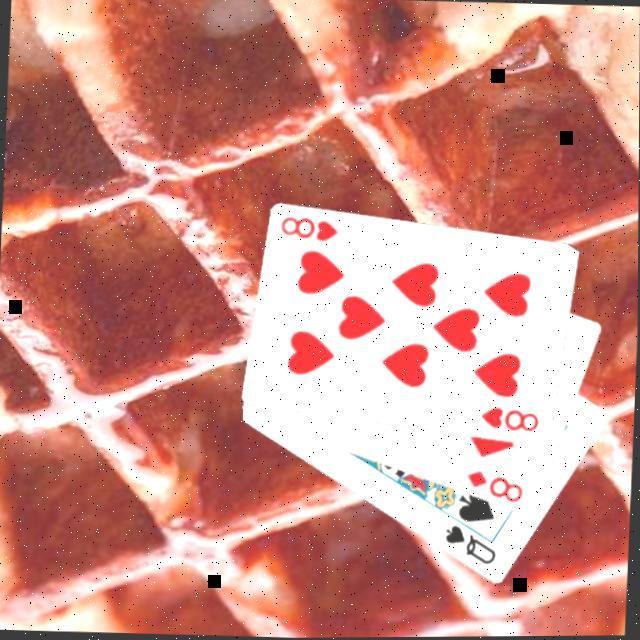8D: (462, 469, 526, 509)
8H: (476, 406, 542, 438), (276, 215, 340, 247)
QS: (440, 523, 500, 571)
